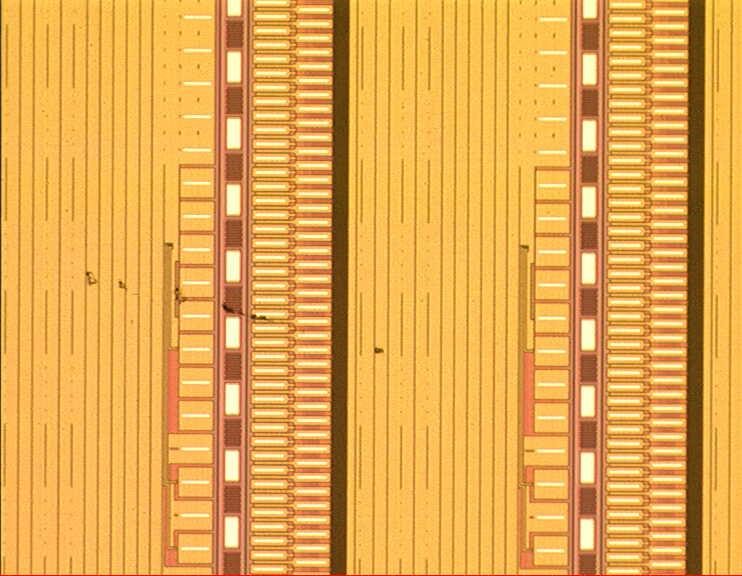SCRATCH: (82, 270, 391, 362)
